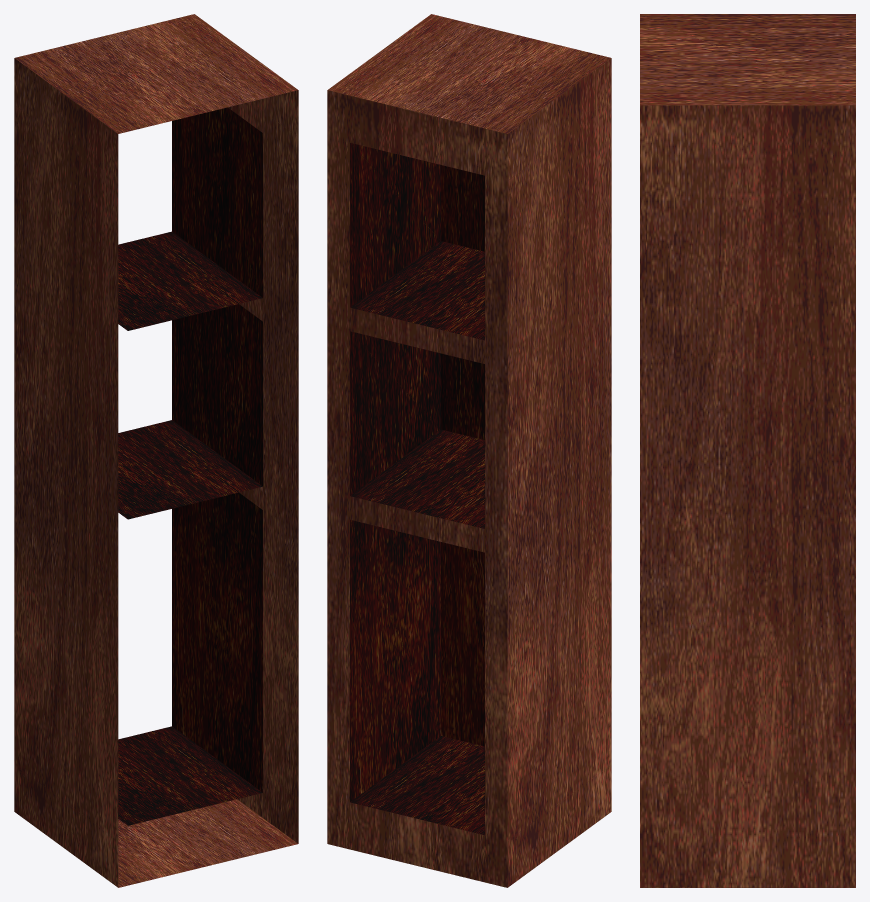
The model's file is Cubby.obj.
3 views of the same model, side by side, from view 1: azimuth 30°, elevation 25°; view 2: azimuth 150°, elevation 25°; view 3: azimuth 270°, elevation 25° (orthographic). The views are drawn at different scales.
Parts seen in each view (by area): view 1: mesh02; view 2: mesh02; view 3: mesh02.
Part boxes in pixels (left/top/right/bottom): mesh02: left=14, top=14, right=298, bottom=887; mesh02: left=327, top=14, right=611, bottom=887; mesh02: left=640, top=14, right=855, bottom=887.
Size of the model in its own units: 2 by 8 by 2.
2 materials, 2 textured.
